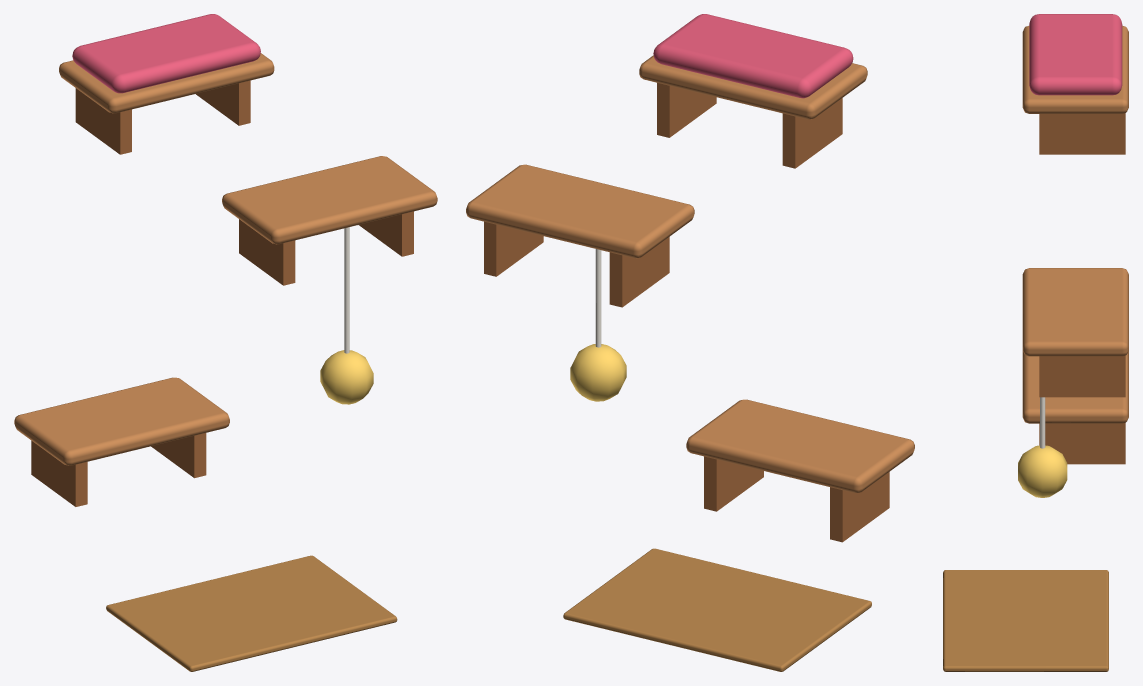
File: catsteps.glb
3 views of the same model, side by side, from view 1: azimuth 30°, elevation 25°; view 2: azimuth 150°, elevation 25°; view 3: azimuth 270°, elevation 25° (orthographic). The views are drawn at different scales.
Size of the model in its own units: 1.26 by 1.83 by 0.56.
